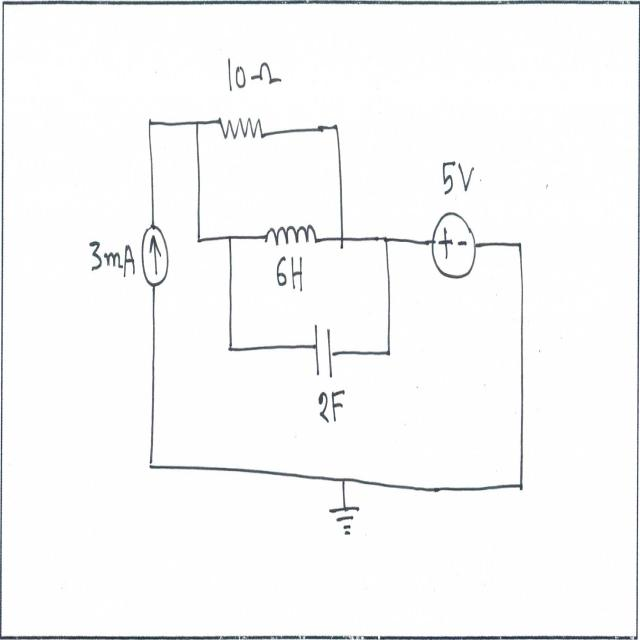capacitor: (313, 314, 337, 379)
current_source: (139, 220, 170, 293)
ground: (324, 501, 366, 544)
inductor: (262, 217, 320, 257)
resistor: (214, 108, 268, 150)
voltage_source: (428, 206, 480, 282)
